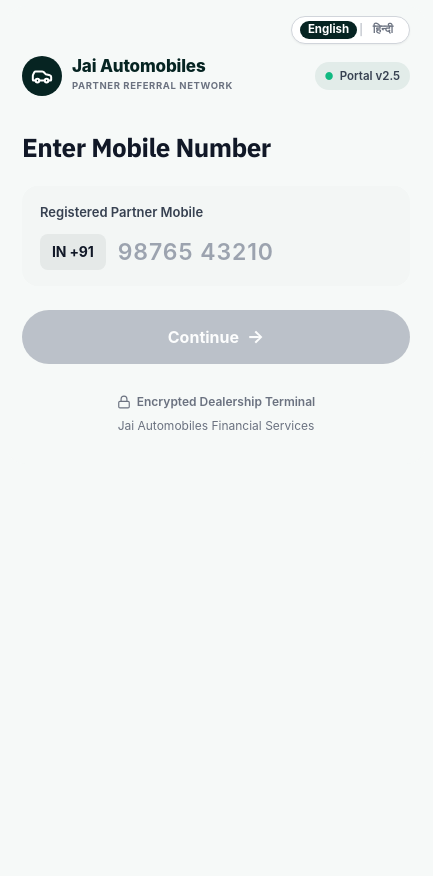
Test: Referral Portal Final Updates Test Suite › PIN-code Location Autofill Requirement › populates city and state automatically for valid Indian PIN codes
The width and height of the screenshot is (433, 876).
Type "9876543210" into the field with placeholder "98765 43210".
click(237, 252); type("9876543210")  # box [118,238,356,266]
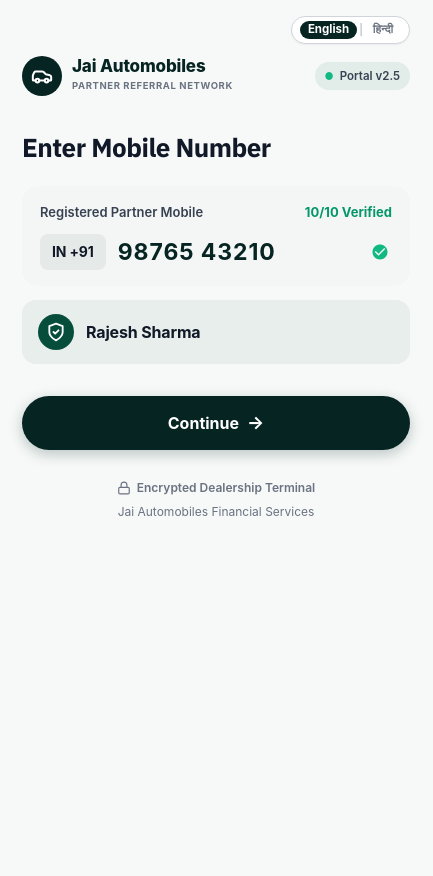
Check: the text "Rajesh Sharma" is shown, box [86,322,200,342]
Click the button "Continue →".
click(216, 423)  # box [22,396,410,450]
(page scrolled)
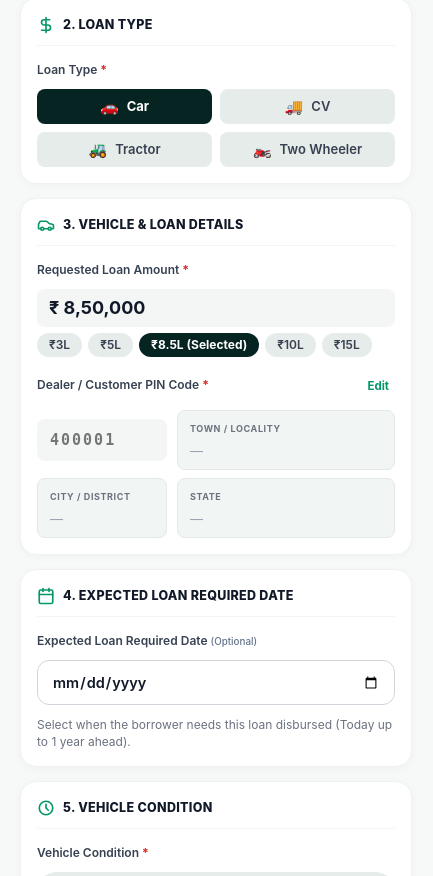
Check: the field with id "customer-pincode" is shown
Type "560001" into the field with id "customer-pincode".
click(102, 440); type("560001")  # box [37,419,167,461]
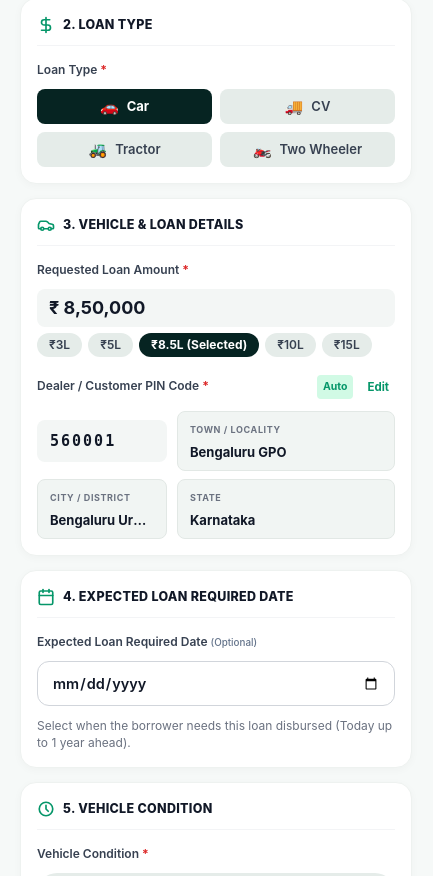
Check: the element with class "city-value" shows "Bengaluru", box [190,444,286,460]
Check: the element with class "city-value" shows "Karnataka", box [190,512,255,528]
Replace the text in the field with id "customer-pincode" with "110001" at (102, 441), box [37,420,167,462]
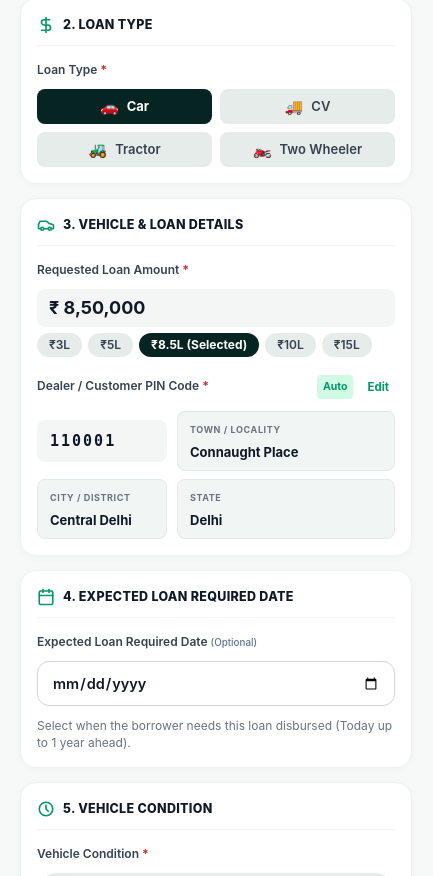
Check: the element with class "city-value" reads "Town / Locality Connaught Place City / District Central Delhi State Delhi", box [190,444,298,460]
